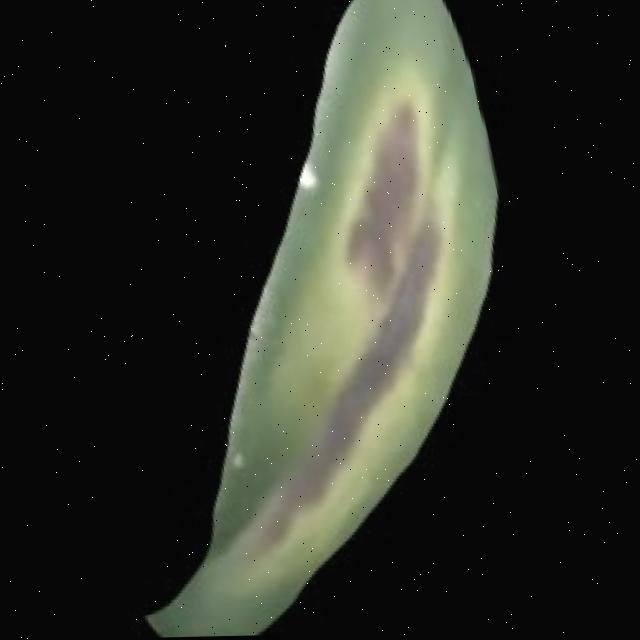mite: (211, 441, 251, 478), (287, 158, 322, 194), (220, 447, 242, 471)
spots: (19, 0, 588, 638)
